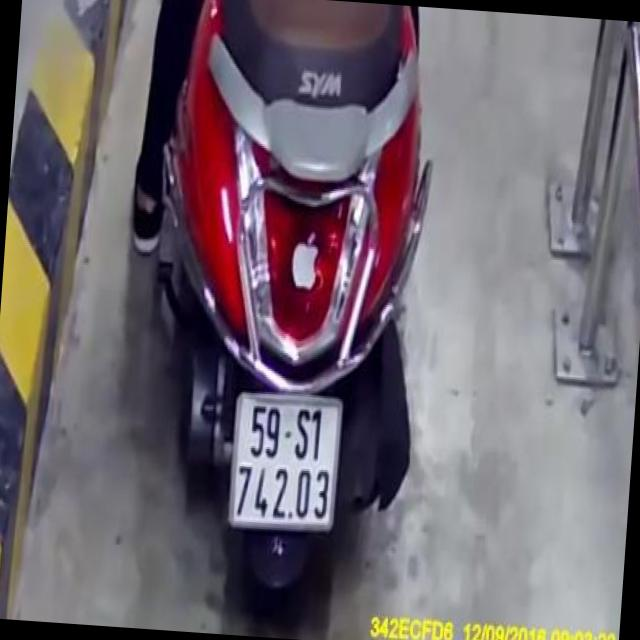LP: (224, 383, 344, 536)
